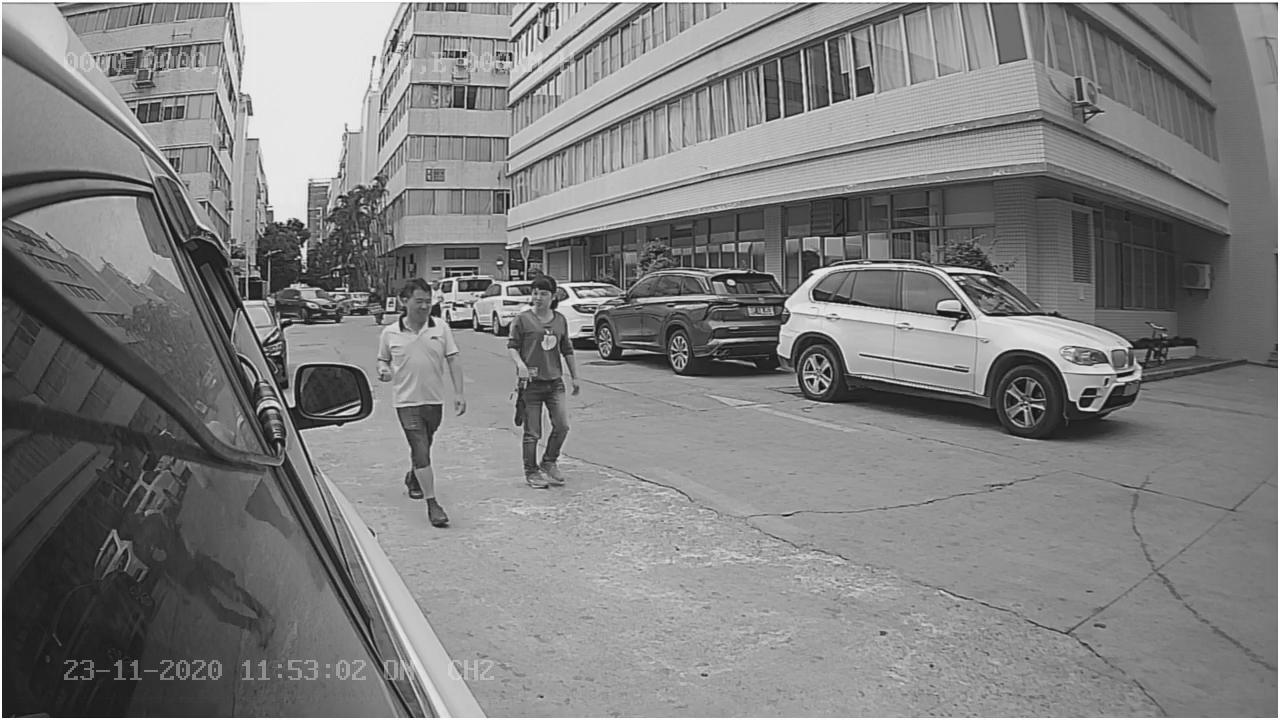person: (378, 279, 469, 521), (504, 279, 581, 479)
